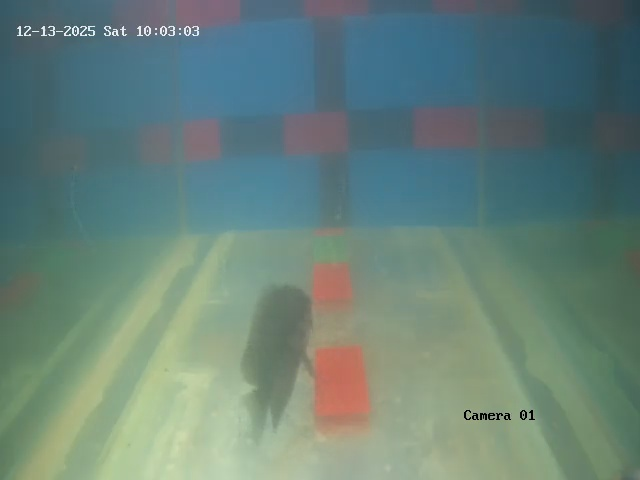fish: (237, 284, 314, 411)
